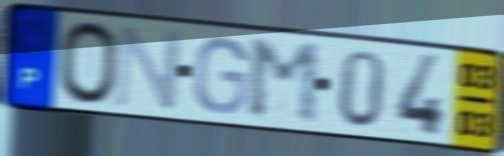0: (335, 48, 388, 130)
4: (393, 52, 449, 139)
G: (190, 35, 252, 117)
M: (246, 37, 322, 128)
N: (112, 23, 187, 112)
O: (57, 18, 123, 108)
